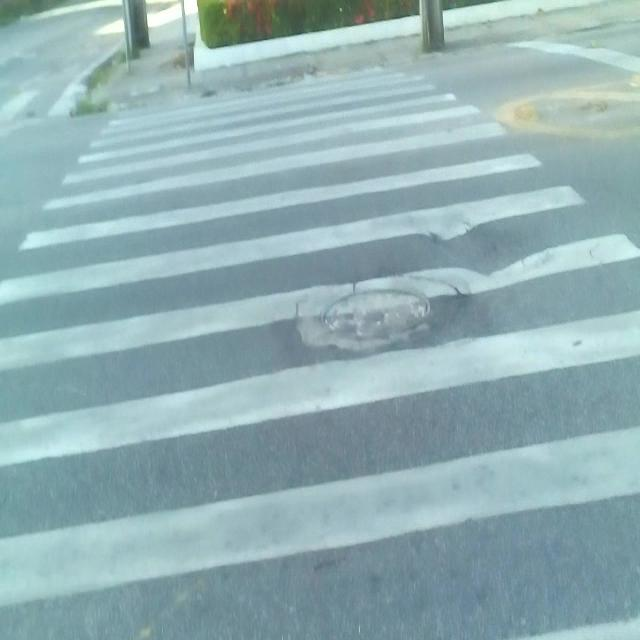crosswalk: (0, 60, 640, 640), (0, 84, 90, 123)
